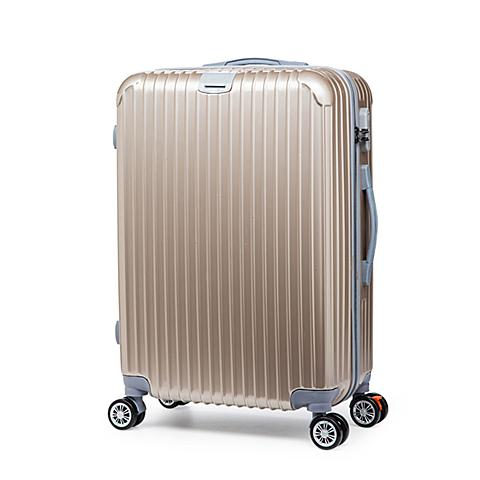luggage: (109, 58, 389, 450)
